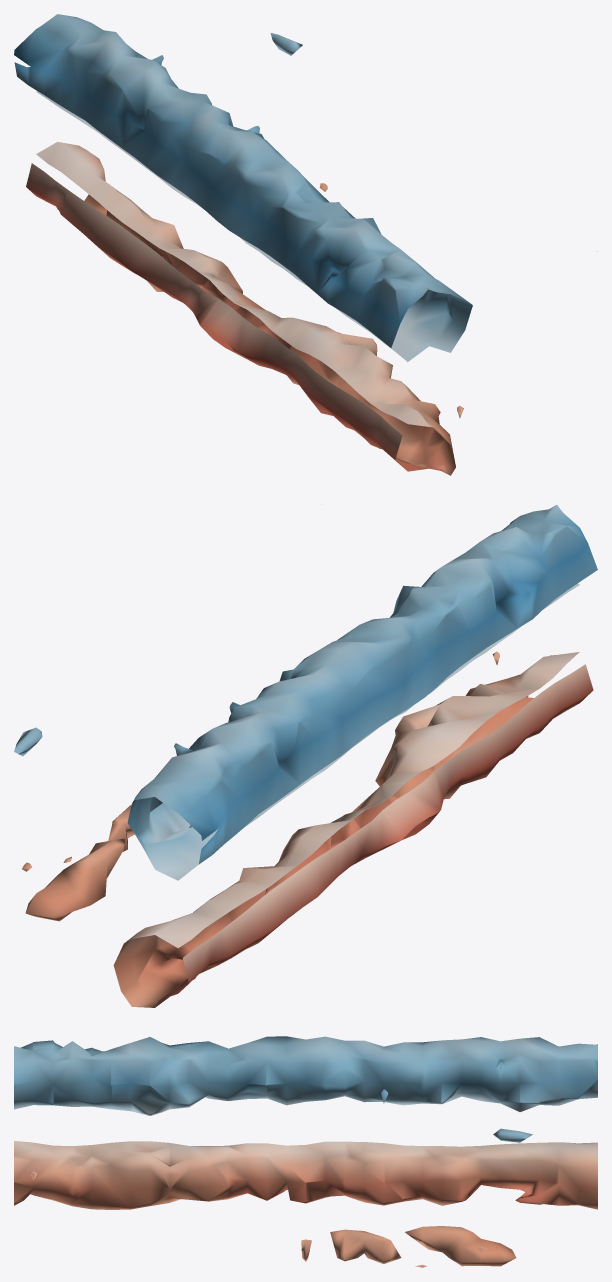
3 views of the same model, one above another, from view 1: azimuth 30°, elevation 25°; view 2: azimuth 150°, elevation 25°; view 3: azimuth 270°, elevation 25° (orthographic). The views are drawn at different scales.
Bounding box in the file's own units: 0.9278 × 0.7998 × 2.5.
